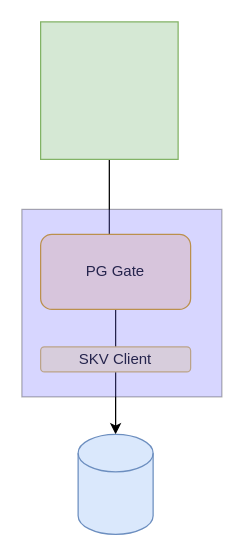
This 244x556 diagram has some shape labels left out. The centre of each missing label's shape, as x and y in pixels:
"K2 SKV" goes at point (115, 483).
"PG" goes at point (108, 90).
